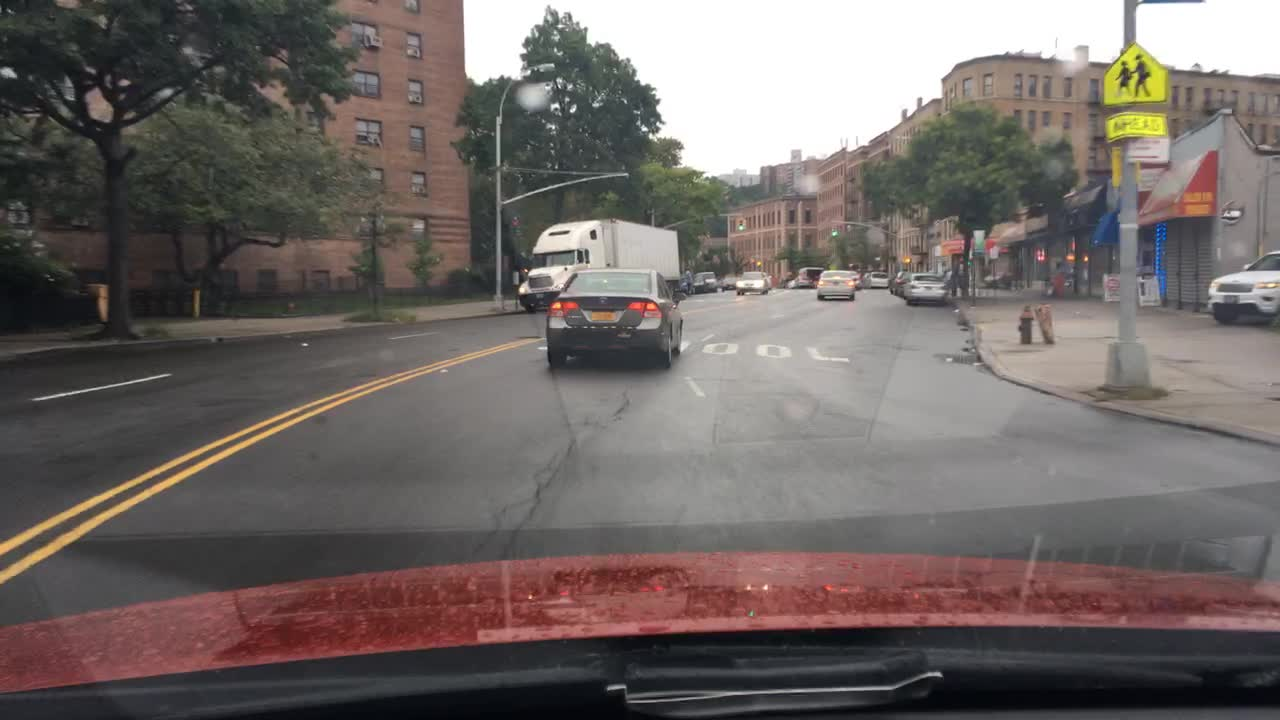car: (540, 264, 683, 369), (1204, 250, 1279, 334), (896, 269, 948, 305), (812, 268, 854, 302), (731, 269, 773, 298), (793, 266, 824, 286), (694, 269, 717, 293), (867, 271, 889, 288), (888, 268, 905, 290), (719, 269, 736, 288), (852, 273, 866, 291), (694, 275, 709, 291), (781, 276, 797, 288)
traffic light: (737, 214, 744, 231), (832, 224, 839, 241)
traffic sign: (1100, 41, 1171, 110), (1105, 113, 1171, 138), (1125, 138, 1172, 164)
truck: (516, 215, 678, 320)
